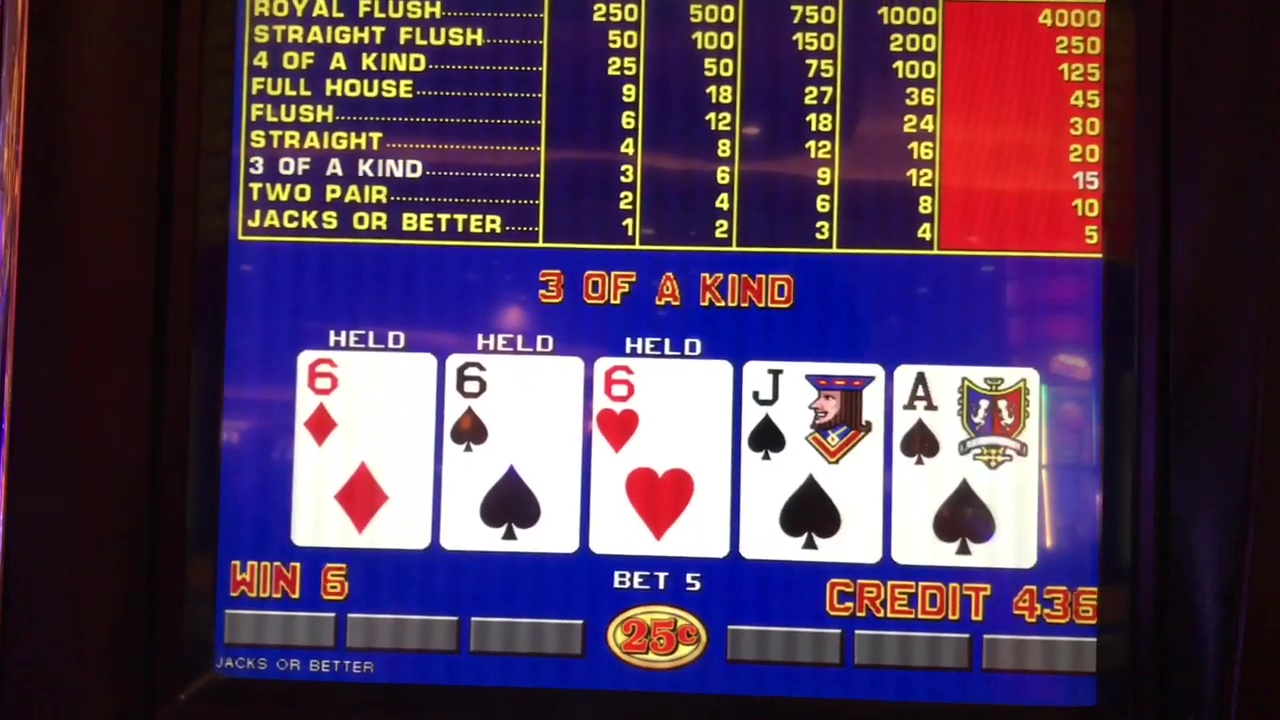D6: (302, 353, 427, 458)
H6: (596, 358, 726, 465)
S6: (449, 356, 575, 463)
SA: (891, 362, 1032, 471)
SJ: (749, 363, 878, 472)
